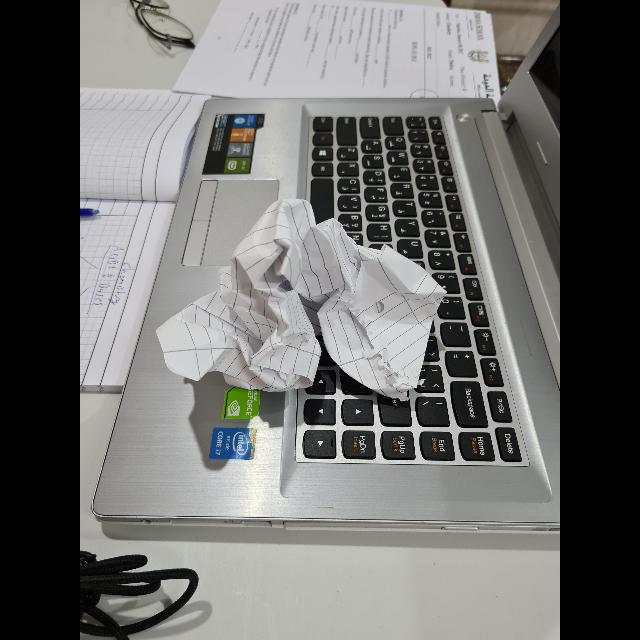scrap_paper: (157, 200, 441, 388)
